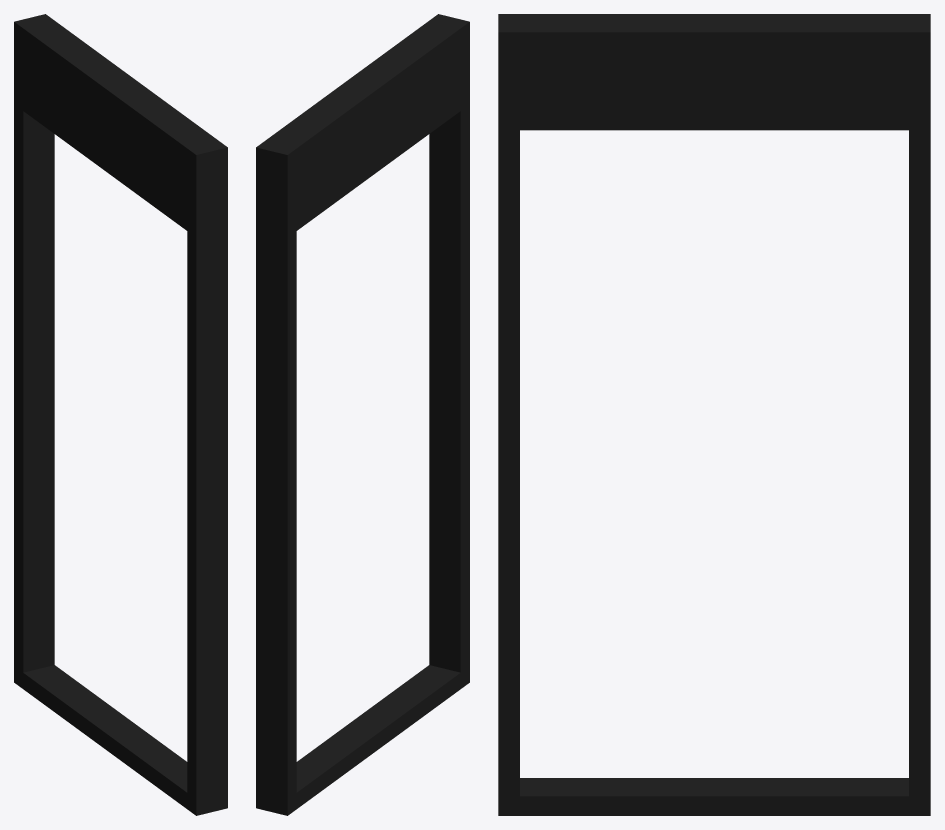
File: SM_Build_Fenster_weiss_gross.fbx
3 renders of one model, left to right at view 1: azimuth 30°, elevation 25°; view 2: azimuth 150°, elevation 25°; view 3: azimuth 270°, elevation 25°, orthographic. The views are drawn at different scales.
Visible parts, largest first — view 1: Fenster weiß groß.001; view 2: Fenster weiß groß.001; view 3: Fenster weiß groß.001.
Part boxes in pixels (left/top/right/bottom): Fenster weiß groß.001: left=14, top=14, right=227, bottom=815; Fenster weiß groß.001: left=256, top=14, right=469, bottom=815; Fenster weiß groß.001: left=498, top=14, right=930, bottom=815.
Size of the model in its own units: 0.2 by 4 by 2.
